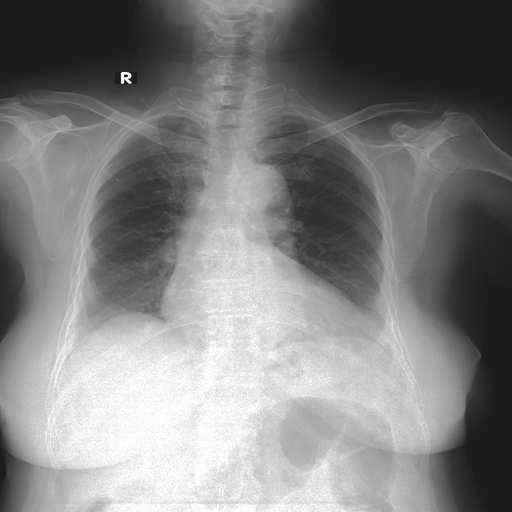Consolidation: (240, 163, 295, 220)
Nodule/Mass: (158, 291, 368, 338)
